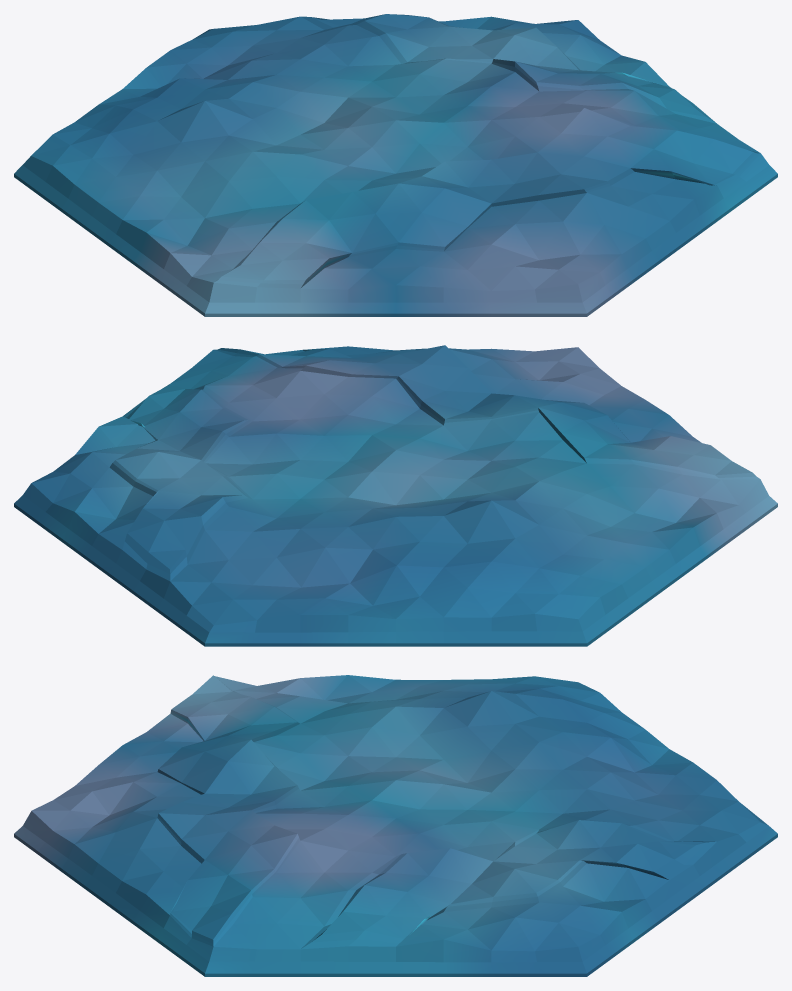
The model's file is deepOcean.glb.
The picture shows the model from 3 angles, top to bottom: view 1: azimuth 30°, elevation 25°; view 2: azimuth 150°, elevation 25°; view 3: azimuth 270°, elevation 25°; orthographic projection.
Parts seen in each view (by area): view 1: deepocean; view 2: deepocean; view 3: deepocean.
Boxes of the visible parts, <box> form: deepocean: <box>14,14,777,316</box>; deepocean: <box>14,345,777,646</box>; deepocean: <box>14,675,777,976</box>.
Size of the model in its own units: 1.73 by 0.2203 by 2.
